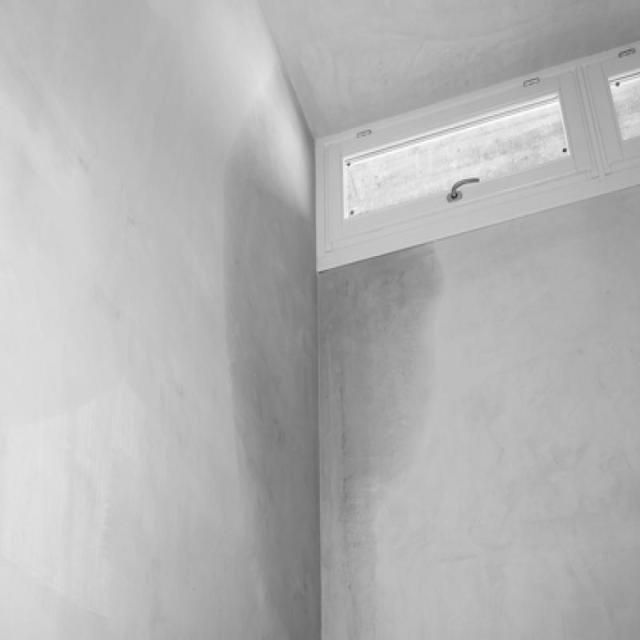stain marks: (197, 49, 469, 640)
